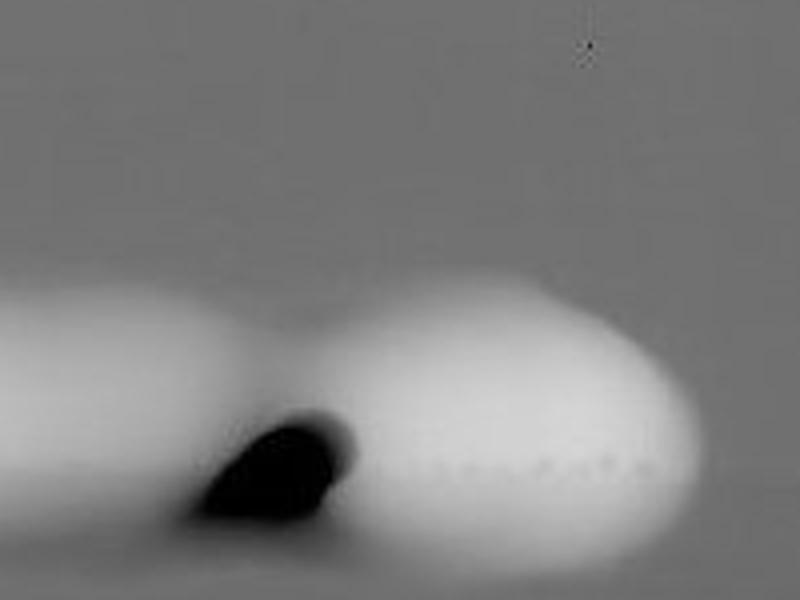defect: (199, 420, 342, 523), (585, 38, 598, 55)
